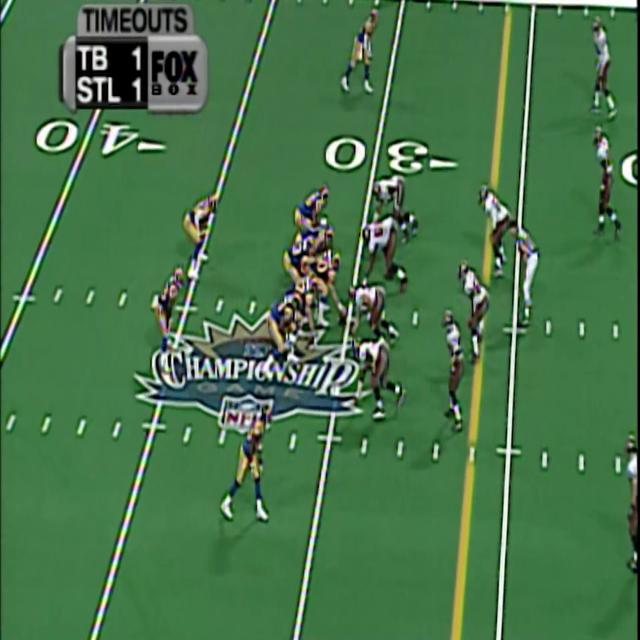players: (219, 395, 272, 528), (478, 182, 530, 281), (360, 216, 412, 295), (185, 182, 224, 282), (305, 238, 345, 334), (343, 10, 386, 99), (153, 262, 190, 364), (369, 175, 418, 249), (349, 281, 400, 352), (457, 262, 491, 363), (272, 279, 316, 350), (587, 20, 618, 120), (446, 309, 471, 432), (290, 186, 332, 248), (284, 222, 321, 289)
